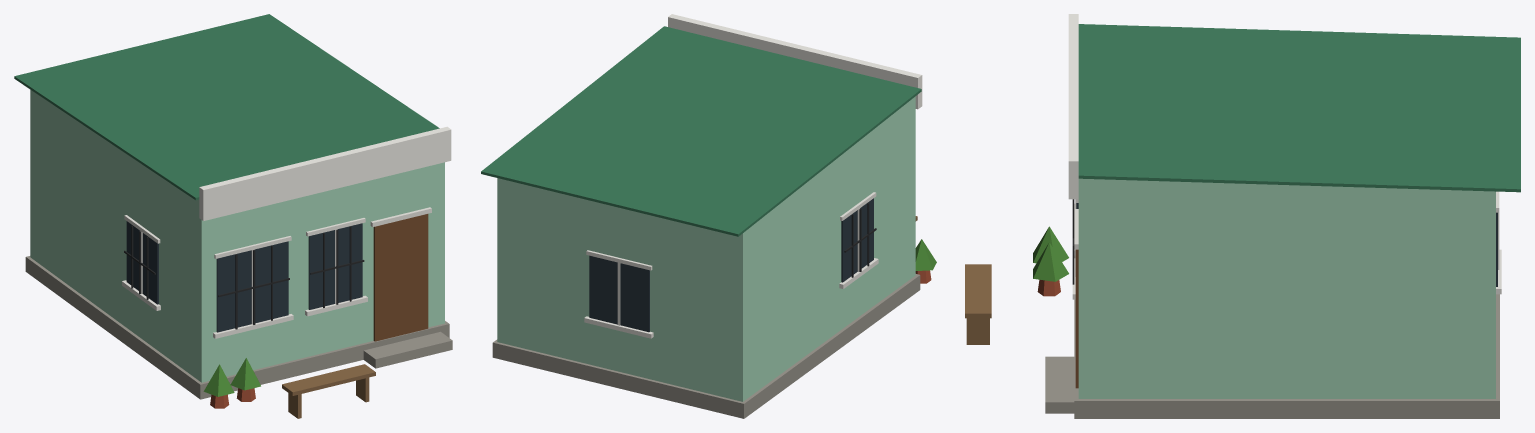
The model's file is BAY_F_Shop_P.glb.
The picture shows the model from 3 angles, left to right: view 1: azimuth 30°, elevation 25°; view 2: azimuth 150°, elevation 25°; view 3: azimuth 270°, elevation 25°; orthographic projection. The views are drawn at different scales.
Parts seen in each view (by area): view 1: BAY_F_Shop_P; view 2: BAY_F_Shop_P; view 3: BAY_F_Shop_P.
Part boxes in pixels (x1=…): BAY_F_Shop_P: x1=14, y1=14, x2=452, y2=418; BAY_F_Shop_P: x1=481, y1=14, x2=936, y2=418; BAY_F_Shop_P: x1=965, y1=14, x2=1520, y2=418.
Size of the model in its own units: 4.33 by 3.4 by 6.66.
1 material, 1 textured.
